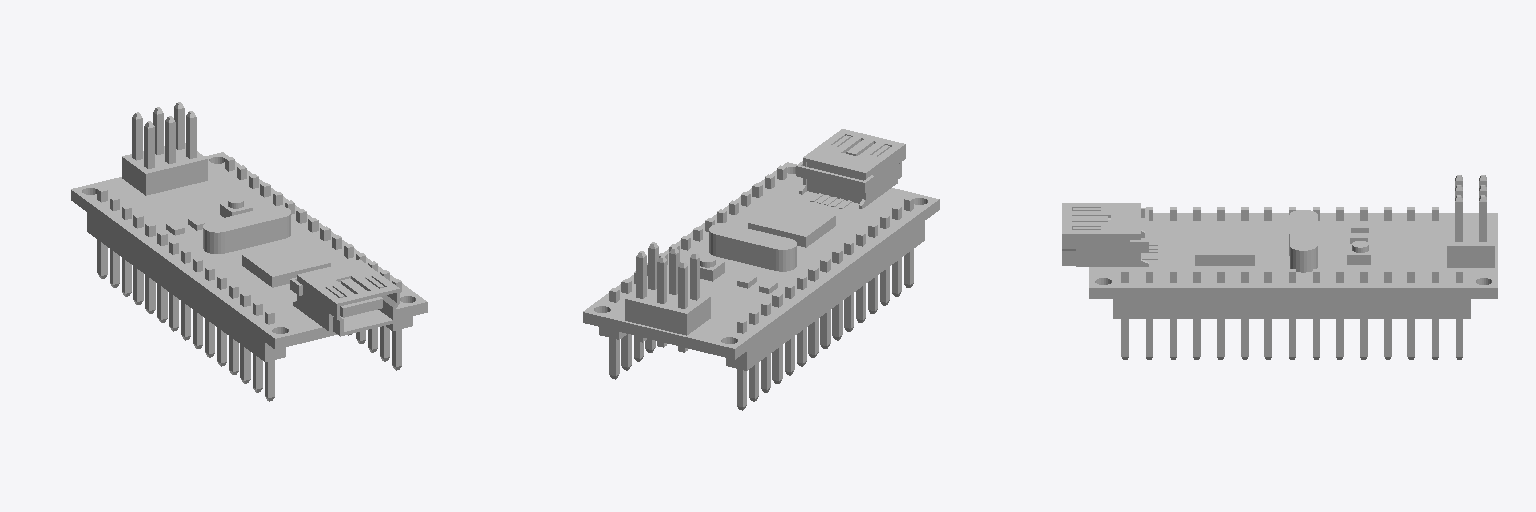
3 renders of one model, left to right at view 1: azimuth 30°, elevation 25°; view 2: azimuth 150°, elevation 25°; view 3: azimuth 270°, elevation 25°, orthographic.
Parts seen in each view (by area): view 1: Arduino_Nano, pin_2_ID103, group_0, pin_1_ID122, ELEC-23-2Pins_2_ID164, block_1_ID135, Arduino_Nano_ID572; view 2: Arduino_Nano, pin_2_ID103, group_0, pin_1_ID122, ELEC-23-2Pins_2_ID164, block_1_ID135; view 3: Arduino_Nano, ELEC-23-2Pins_2_ID164, pin_2_ID103, group_0, pin_1_ID122, block_1_ID135.
Boxes of the visible parts, box(x1,y1,x2,y2) form: Arduino_Nano: box(71, 152, 427, 349); pin_2_ID103: box(110, 102, 401, 401); group_0: box(290, 259, 399, 336); pin_1_ID122: box(97, 112, 377, 383); ELEC-23-2Pins_2_ID164: box(87, 212, 412, 361); block_1_ID135: box(122, 143, 207, 195); Arduino_Nano_ID572: box(203, 216, 290, 253); Arduino_Nano: box(583, 162, 939, 359); pin_2_ID103: box(621, 165, 913, 401); group_0: box(796, 129, 905, 208); pin_1_ID122: box(609, 183, 889, 410); ELEC-23-2Pins_2_ID164: box(599, 221, 924, 370); block_1_ID135: box(625, 282, 710, 335); Arduino_Nano: box(1089, 210, 1497, 298); ELEC-23-2Pins_2_ID164: box(1113, 299, 1470, 318); pin_2_ID103: box(1121, 185, 1486, 359); group_0: box(1062, 203, 1157, 266); pin_1_ID122: box(1170, 175, 1486, 359); block_1_ID135: box(1447, 216, 1494, 267).
Size of the model in its own units: 0.0185 by 0.0169 by 0.0461.